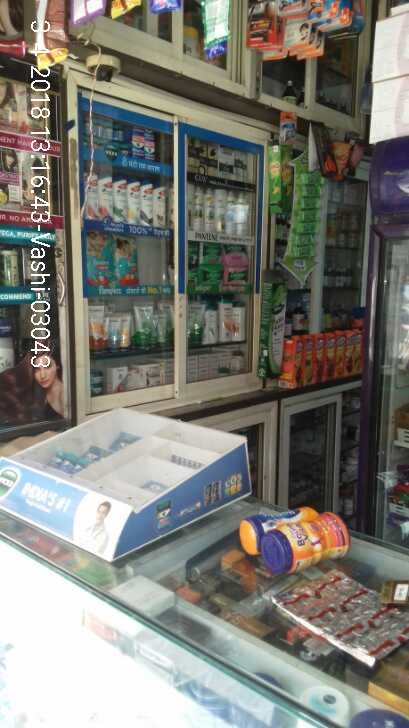vicks: (130, 125, 143, 141), (112, 126, 124, 141), (131, 141, 143, 156), (146, 139, 153, 158), (119, 145, 129, 155)
